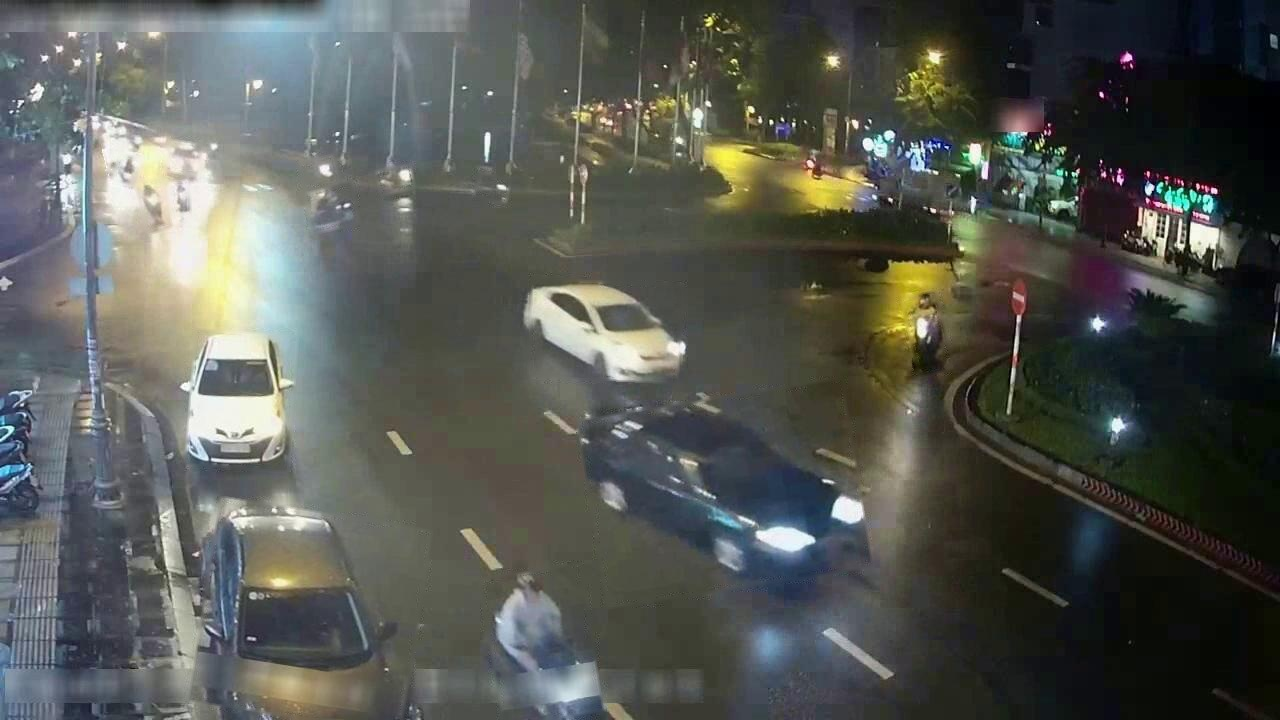Car: (578, 401, 868, 576), (198, 507, 407, 719), (522, 283, 685, 382), (180, 333, 293, 465), (310, 189, 354, 236), (169, 142, 203, 178)
Motorcycle: (0, 462, 39, 513), (0, 388, 34, 439), (0, 440, 27, 466)
Motorcyclist: (486, 572, 603, 719), (911, 293, 943, 371), (141, 184, 166, 227), (377, 166, 413, 195), (303, 160, 337, 189), (477, 178, 510, 204), (112, 152, 136, 186), (173, 179, 191, 219), (104, 148, 119, 178)
Sign: (1010, 279, 1027, 316)
